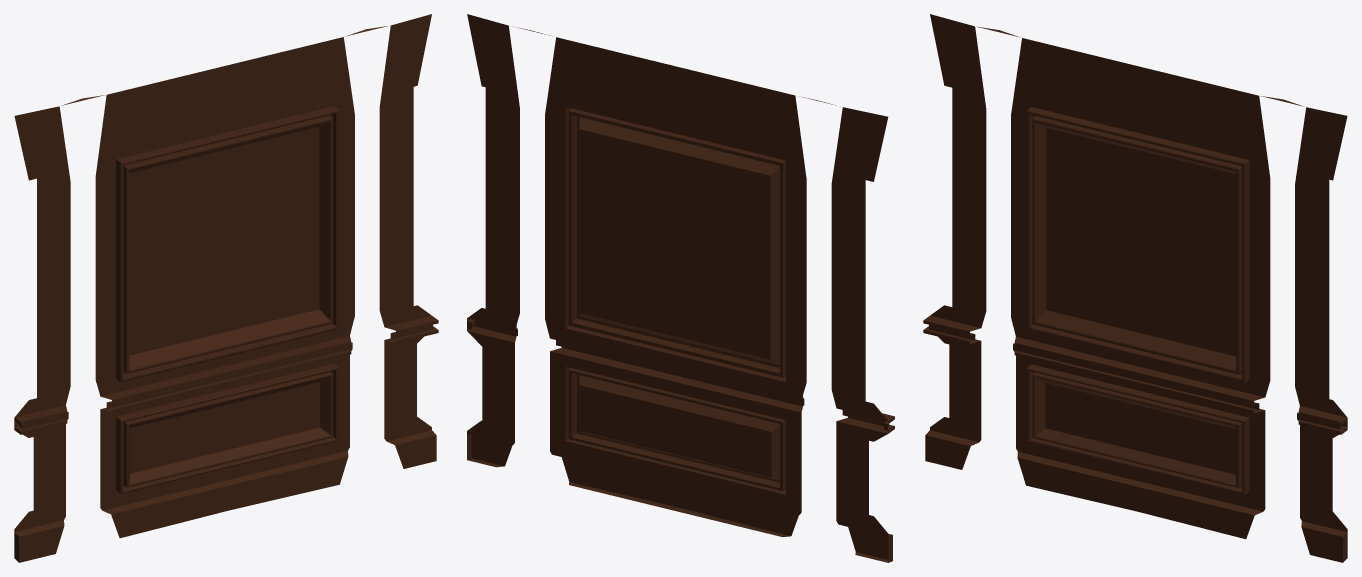
The model's file is wall2.fbx.
3 renders of one model, left to right at view 1: azimuth 30°, elevation 25°; view 2: azimuth 150°, elevation 25°; view 3: azimuth 330°, elevation 25°, orthographic.
Parts seen in each view (by area): view 1: FLOOR1plane.003; view 2: FLOOR1plane.003; view 3: FLOOR1plane.003.
Part boxes in pixels (box(x1,y1,x2,y2)): FLOOR1plane.003: box(14, 14, 438, 562); FLOOR1plane.003: box(467, 14, 894, 562); FLOOR1plane.003: box(923, 14, 1347, 562).
Bounding box in the file's own units: 4176 × 4241 × 127.
